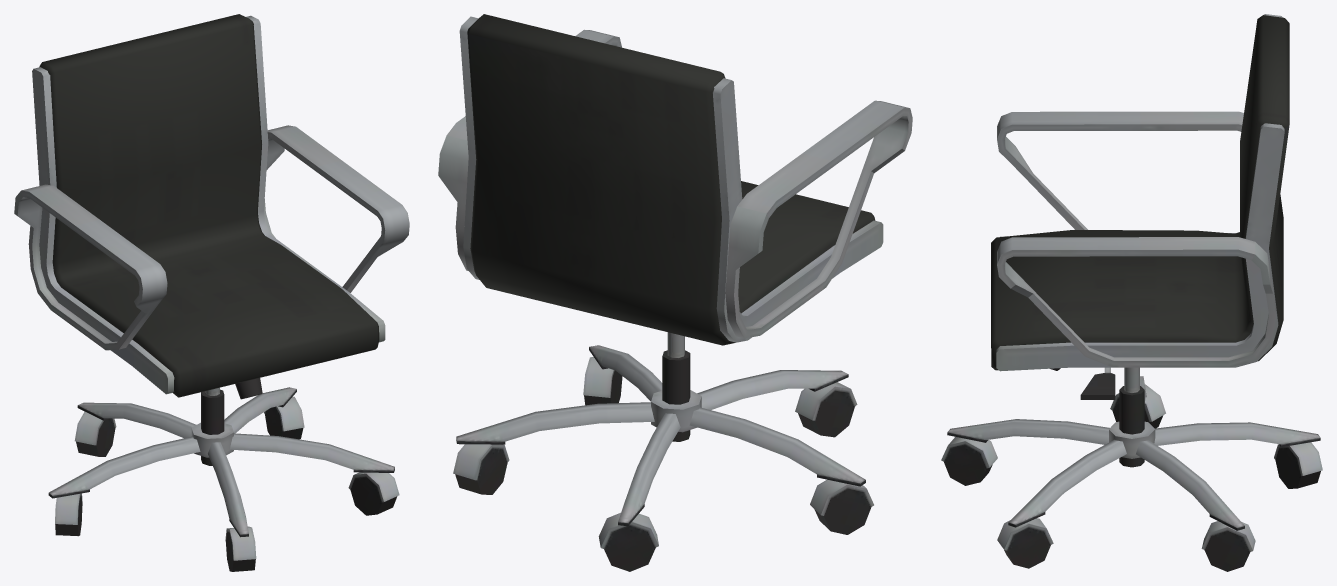
The model's file is sedia-ufficio.glb.
3 renders of one model, left to right at view 1: azimuth 30°, elevation 25°; view 2: azimuth 150°, elevation 25°; view 3: azimuth 270°, elevation 25°, orthographic. The views are drawn at different scales.
Parts seen in each view (by area): view 1: OfficeChair_Modern_OfficeChair_Modern_0; view 2: OfficeChair_Modern_OfficeChair_Modern_0; view 3: OfficeChair_Modern_OfficeChair_Modern_0.
Boxes of the visible parts, x1,y1,x2,y2 form: OfficeChair_Modern_OfficeChair_Modern_0: (14,14,409,571); OfficeChair_Modern_OfficeChair_Modern_0: (438,14,912,571); OfficeChair_Modern_OfficeChair_Modern_0: (941,14,1322,571).
Bounding box in the file's own units: 0.7233 × 0.97 × 0.7627.
1 material, 1 textured.
